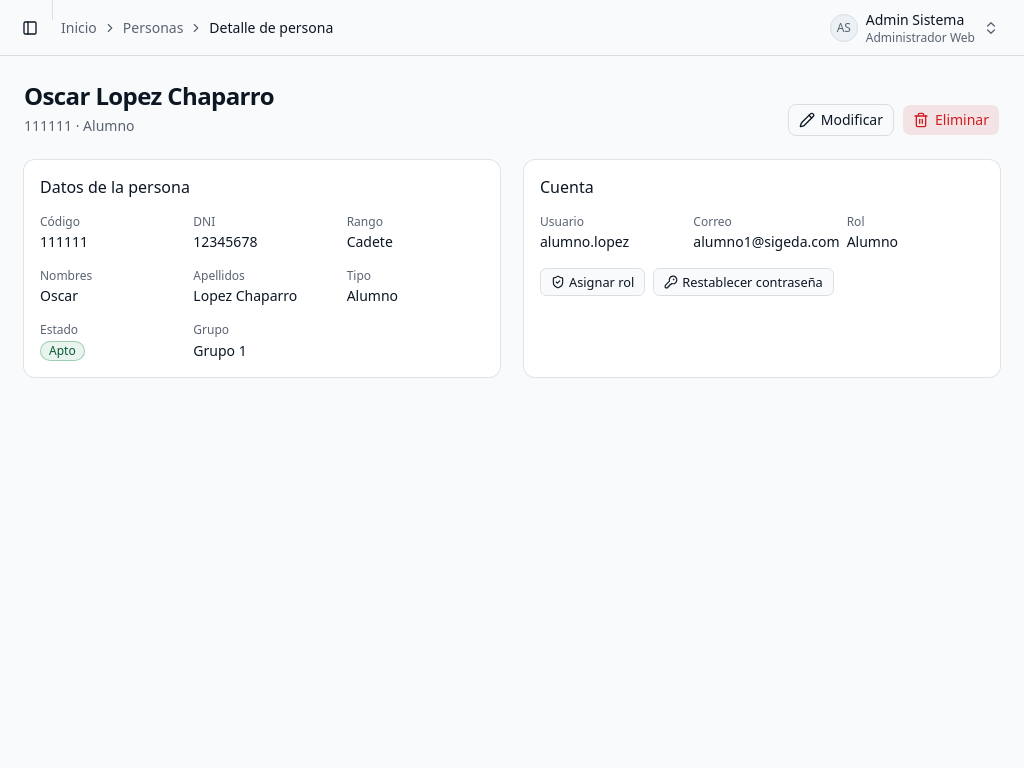
Detalle de persona › CA-PER-07 el backend rechaza un tipo incompatible con el rol de la cuenta
Check: the heading "Cuenta" is shown, box [540,176,594,198]
Click the button "Modificar": x=841, y=120 [788,104,894,136]
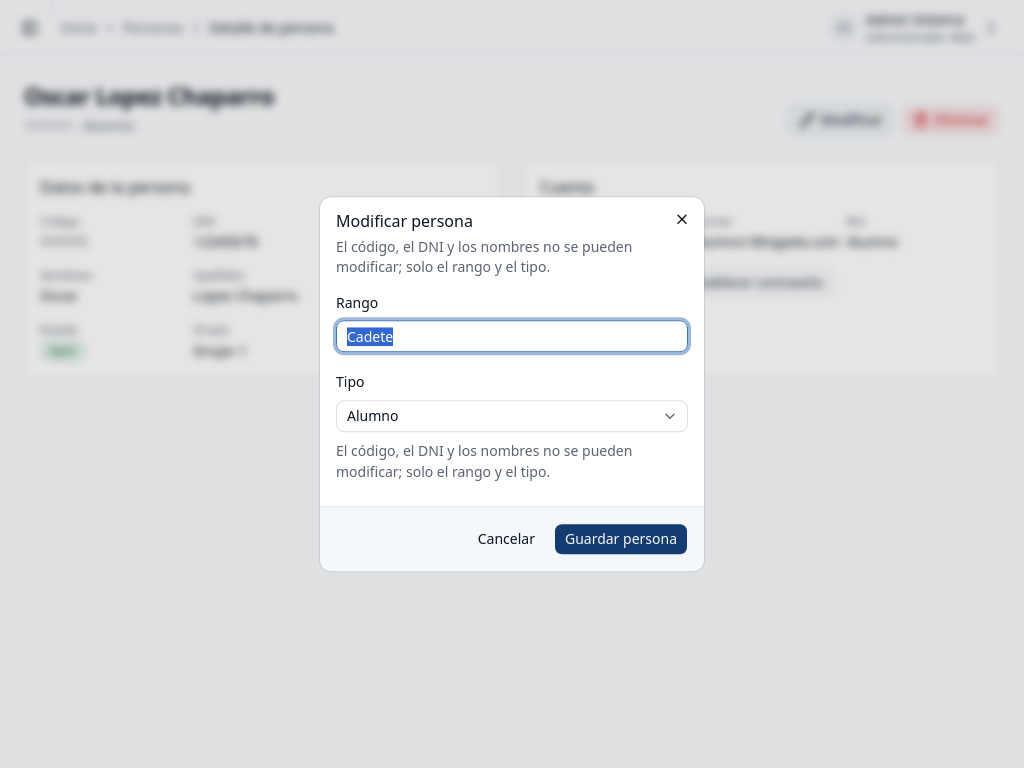
Click the button "Guardar persona": x=621, y=539 [554,523,688,555]
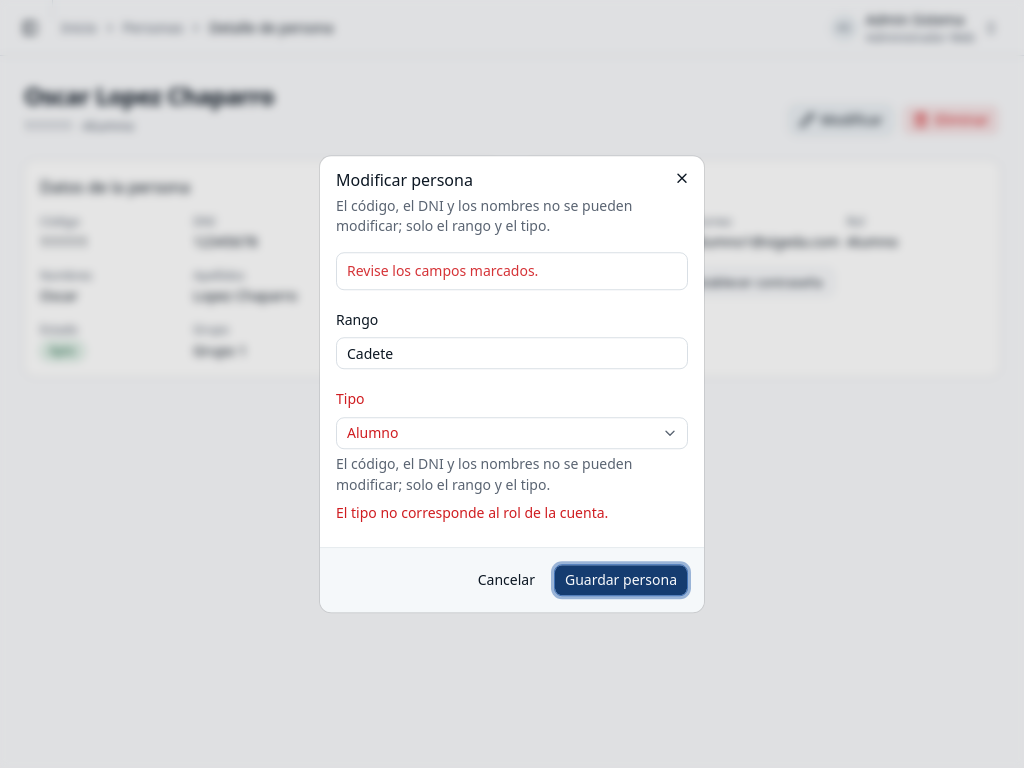
Check: the text "El tipo no corresponde al rol de la cuenta." is shown, box [336,503,608,522]
